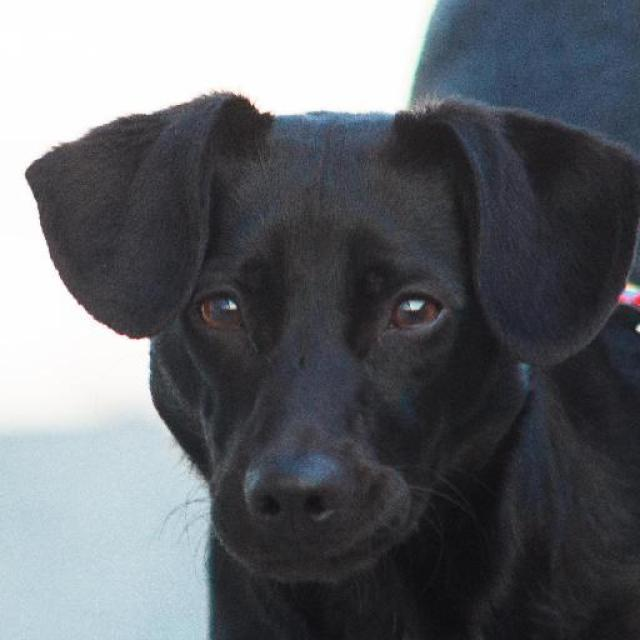adult_dog: (24, 92, 640, 640)
